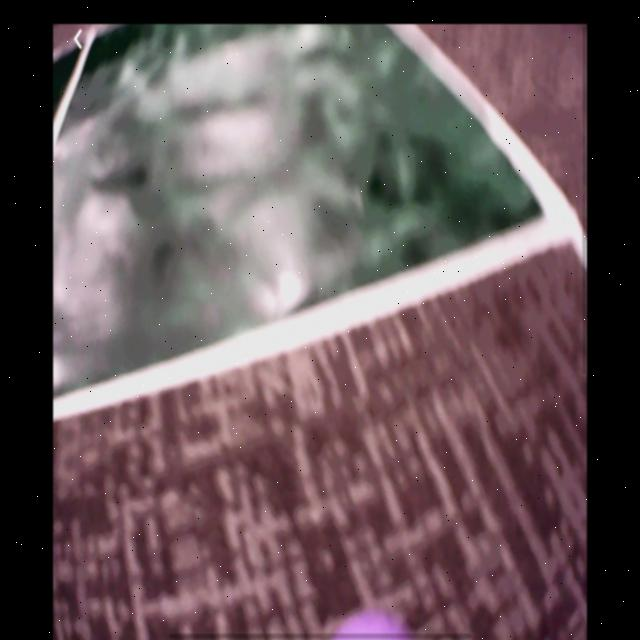ball: (335, 607, 413, 640)
